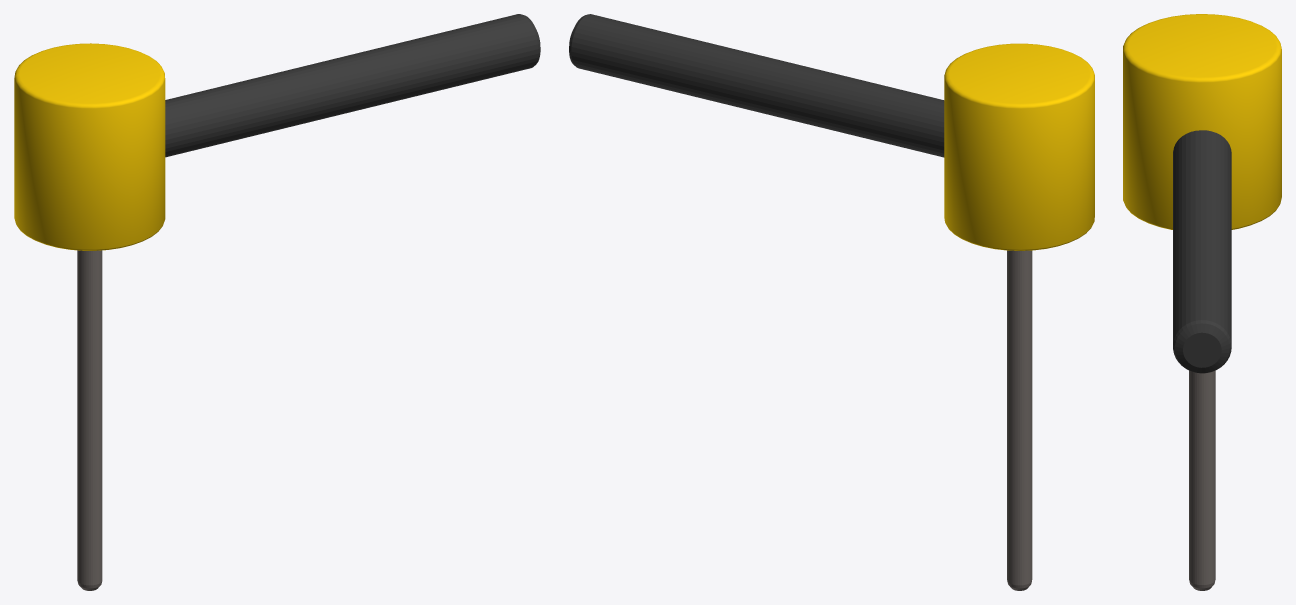
File: barrier-7.fbx
3 renders of one model, left to right at view 1: azimuth 30°, elevation 25°; view 2: azimuth 150°, elevation 25°; view 3: azimuth 270°, elevation 25°, orthographic. The views are drawn at different scales.
Parts seen in each view (by area): view 1: Cylinder.003, Cylinder.004; view 2: Cylinder.003, Cylinder.004; view 3: Cylinder.003, Cylinder.004.
Boxes of the visible parts, x1=… form: Cylinder.003: x1=14, y1=43, x2=165, y2=590; Cylinder.004: x1=165, y1=14, x2=540, y2=157; Cylinder.003: x1=944, y1=43, x2=1094, y2=590; Cylinder.004: x1=569, y1=14, x2=944, y2=157; Cylinder.003: x1=1123, y1=14, x2=1281, y2=590; Cylinder.004: x1=1173, y1=130, x2=1231, y2=373.
Bounding box in the file's own units: 356 × 345 × 91.71.
